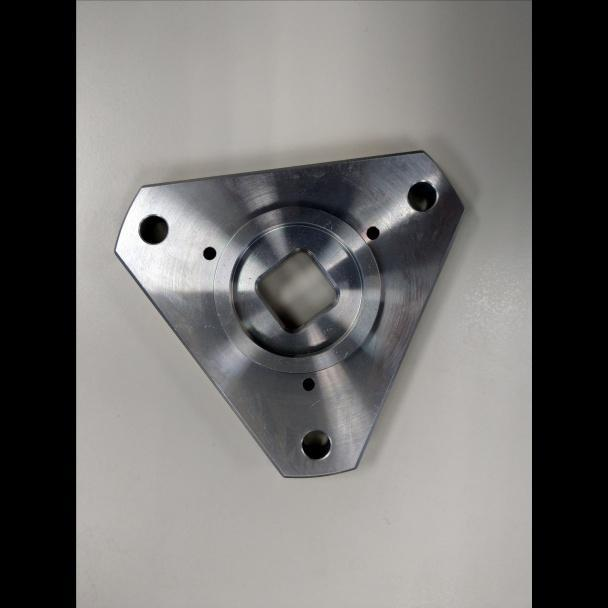hole: (401, 179, 441, 214), (297, 427, 335, 463), (134, 210, 170, 248), (362, 223, 383, 241), (300, 375, 317, 392), (201, 244, 217, 261)
